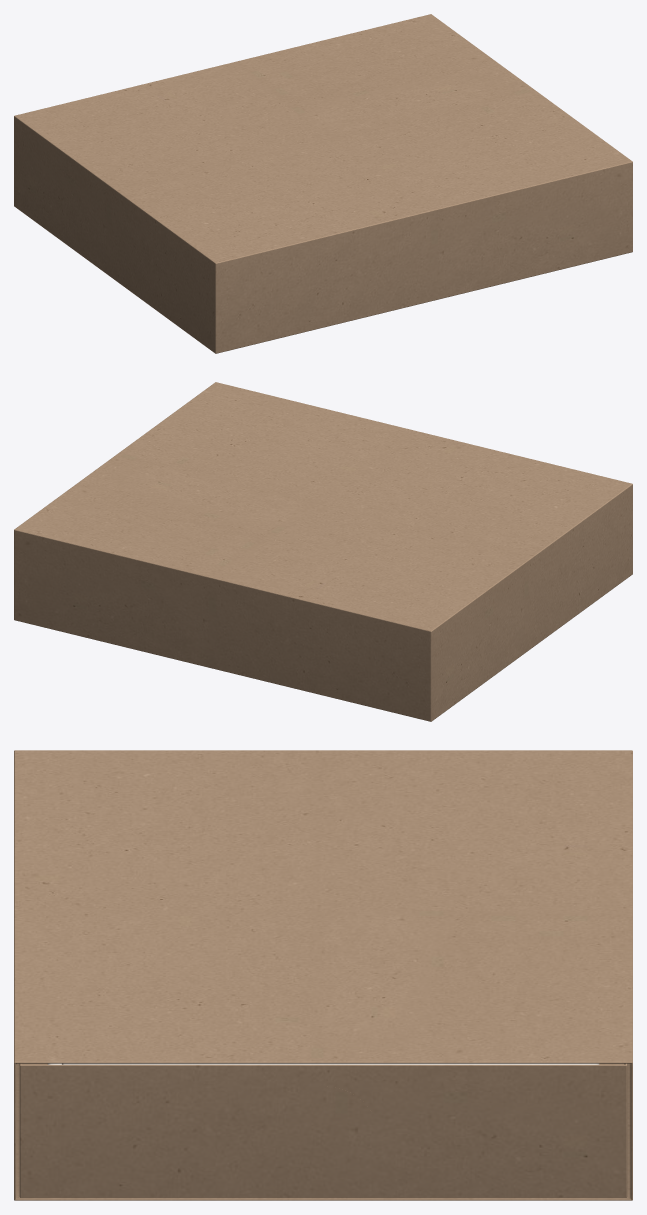
The model's file is anim-pr2-side.glb.
3 renders of one model, top to bottom at view 1: azimuth 30°, elevation 25°; view 2: azimuth 150°, elevation 25°; view 3: azimuth 270°, elevation 25°, orthographic. The views are drawn at different scales.
Parts seen in each view (by area): view 1: p2d_s; view 2: p2d_s; view 3: p2d_s, p2d_d, p2d_tab, t4_body.
Boxes of the visible parts, x1,y1,x2,y2 form: p2d_s: [14, 14, 632, 353]; p2d_s: [14, 382, 632, 721]; p2d_s: [14, 750, 632, 1200]; p2d_d: [19, 1063, 627, 1197]; p2d_tab: [323, 1086, 378, 1185]; t4_body: [62, 1063, 599, 1064].
Bounding box in the file's own units: 0.154 × 0.032 × 0.129.
Materials: 2 (1 with a texture image).
